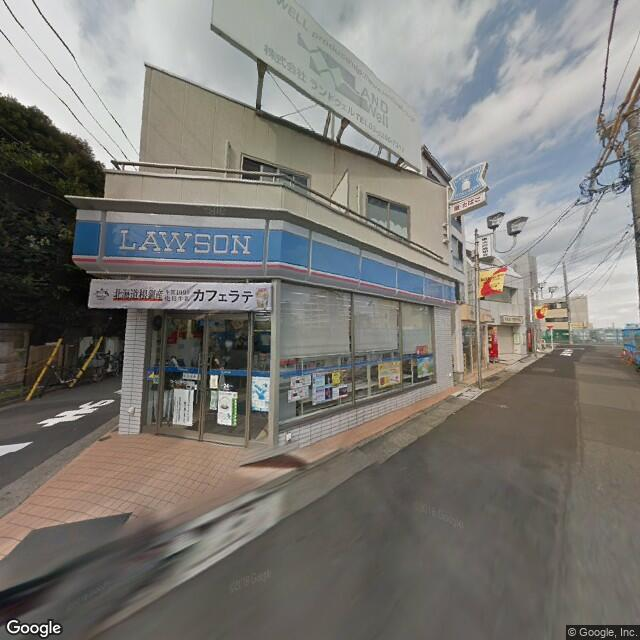lawson: (71, 206, 461, 312), (448, 155, 487, 205)
